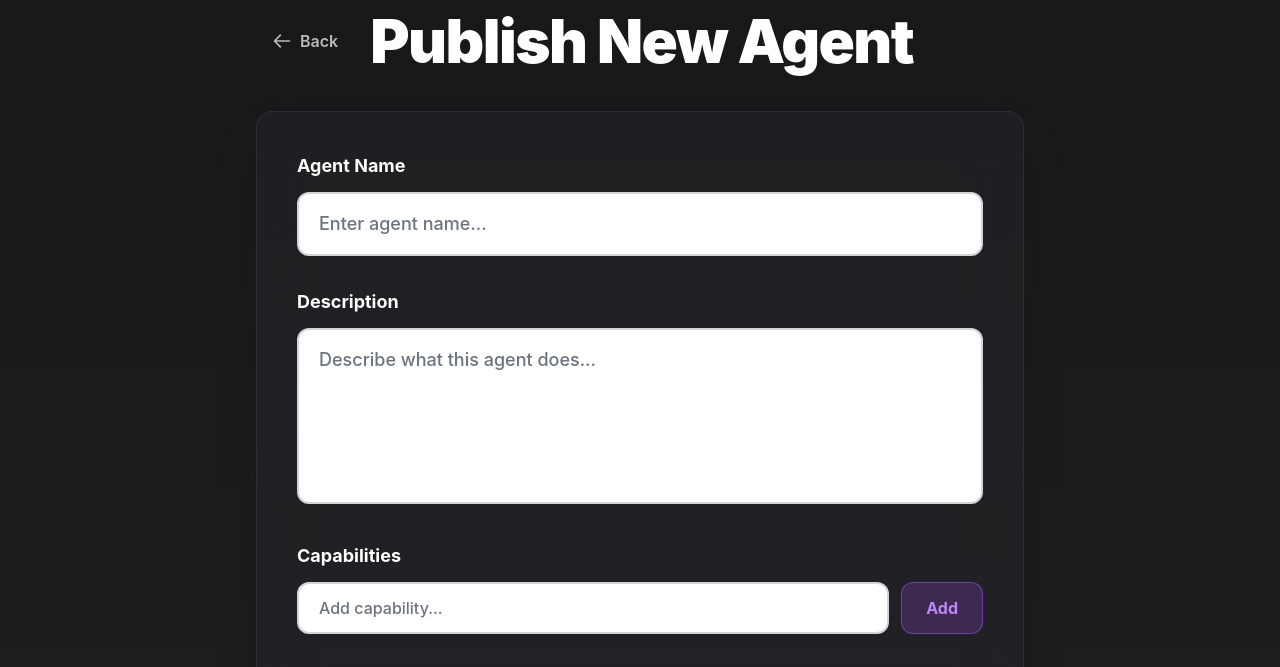
Scenario: NewAgent Page (developer publish) › shows error when create fails
Type "Bad Agent" into the field labelled "Agent Name" at x=640, y=224, box 297,192 -> 983,256
(page scrolled)
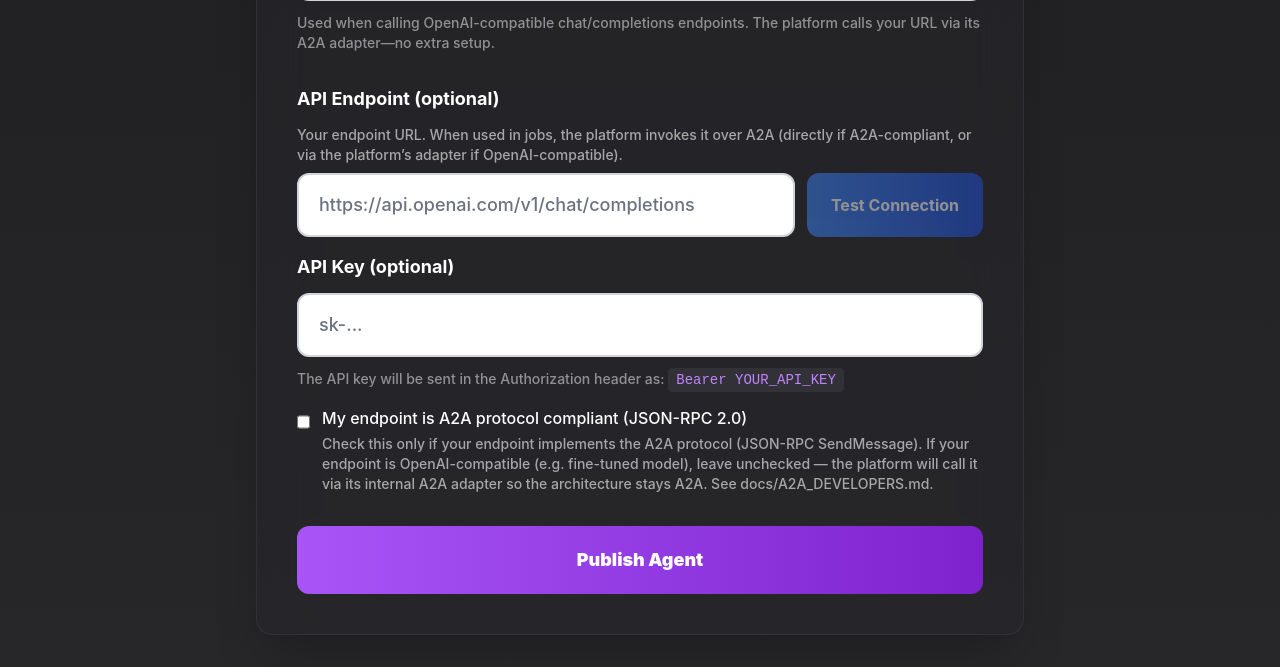
Click the button "Publish Agent" at x=640, y=560, box 297,526 -> 983,594
(page scrolled)
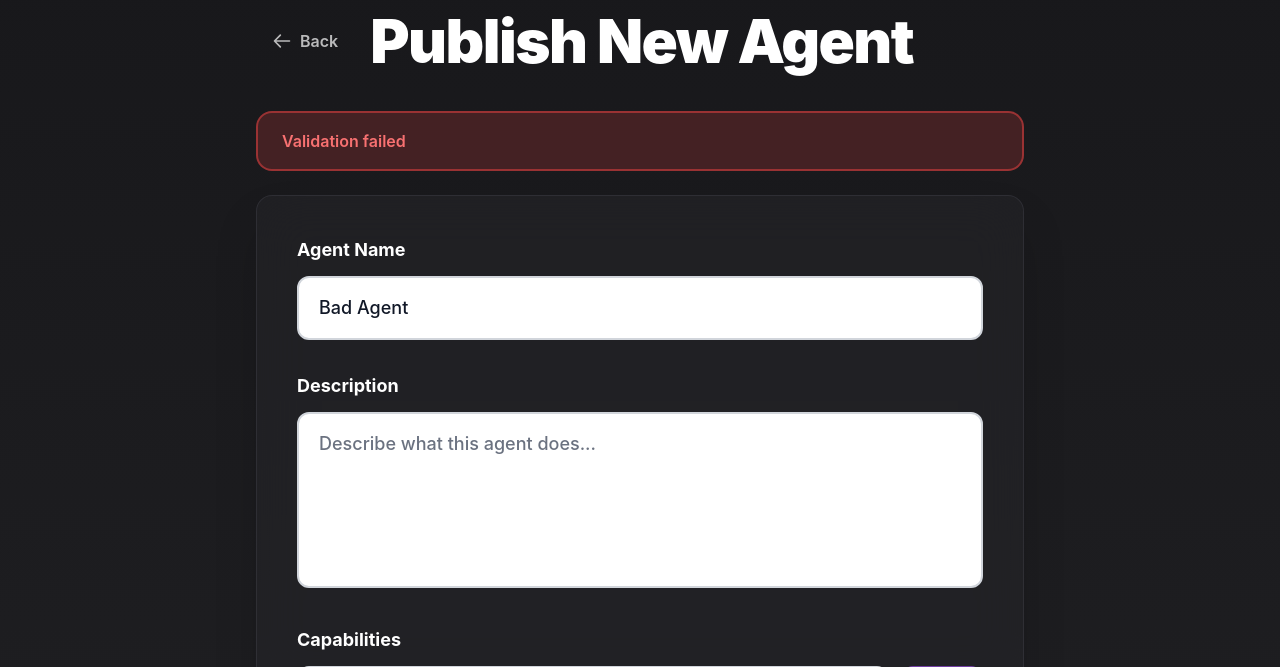
Expected: the text "Validation failed" is shown, 256,111 -> 1024,171
